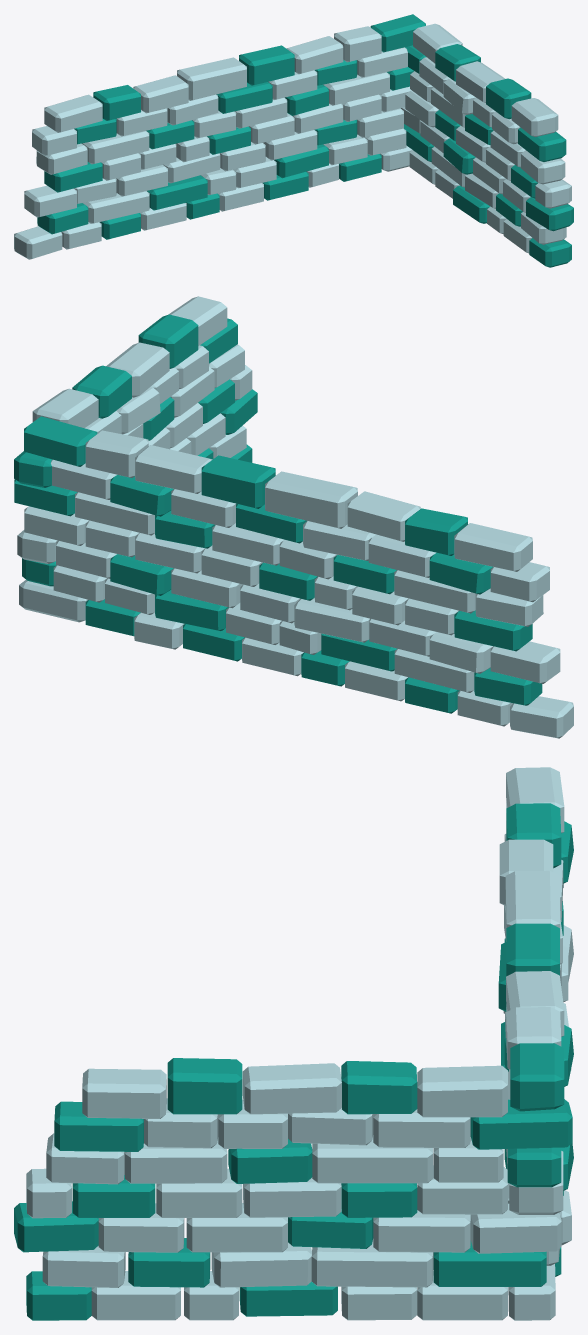
The model's file is SM_Wall1.fbx.
The picture shows the model from 3 angles, top to bottom: view 1: azimuth 30°, elevation 25°; view 2: azimuth 150°, elevation 25°; view 3: azimuth 270°, elevation 25°; orthographic projection. The views are drawn at different scales.
Parts seen in each view (by area): view 1: Wall1; view 2: Wall1; view 3: Wall1.
Part boxes in pixels (x1,y1,x2,y2): Wall1: (14, 14, 573, 267); Wall1: (14, 296, 573, 738); Wall1: (14, 767, 573, 1320).
Bounding box in the file's own units: 924 × 305 × 625.
